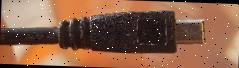electronic: (1, 5, 208, 56)
